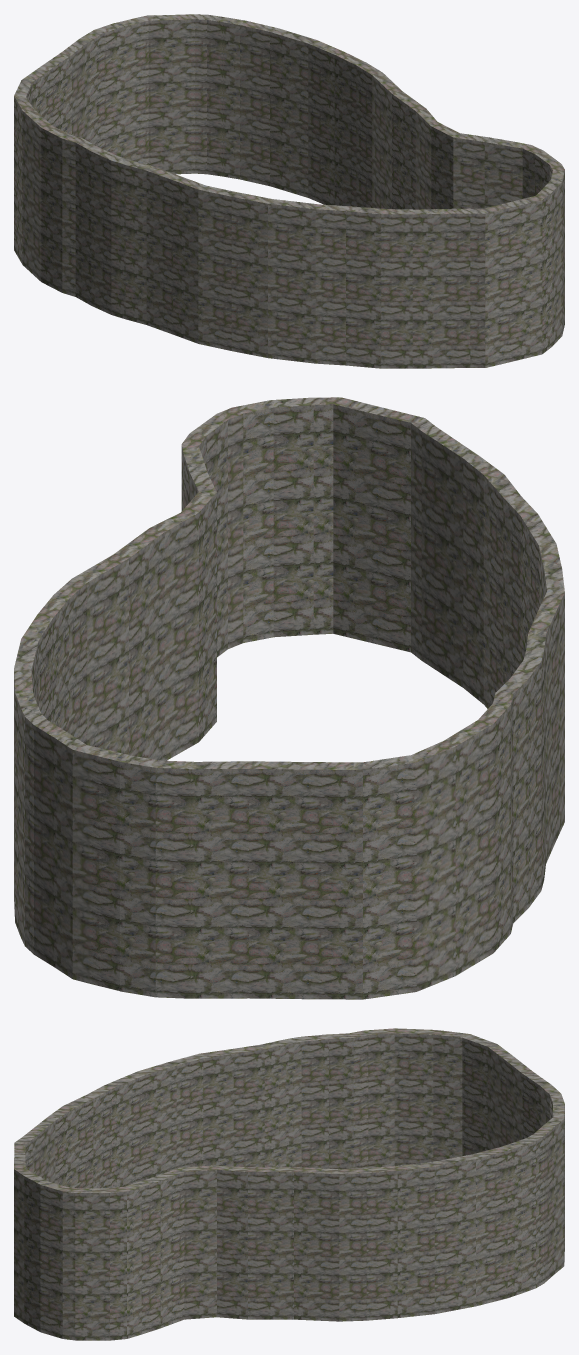
Rendered from Inside_Hole_Edge.fbx.
The picture shows the model from 3 angles, top to bottom: view 1: azimuth 30°, elevation 25°; view 2: azimuth 150°, elevation 25°; view 3: azimuth 270°, elevation 25°; orthographic projection. The views are drawn at different scales.
Parts seen in each view (by area): view 1: Inside_Hole_Edge; view 2: Inside_Hole_Edge; view 3: Inside_Hole_Edge.
Boxes of the visible parts, x1,y1,x2,y2 form: Inside_Hole_Edge: (14, 14, 564, 368); Inside_Hole_Edge: (14, 397, 564, 999); Inside_Hole_Edge: (14, 1028, 564, 1340).
Bounding box in the file's own units: 1677 × 700 × 2370.
Materials: 1 (1 with a texture image).
